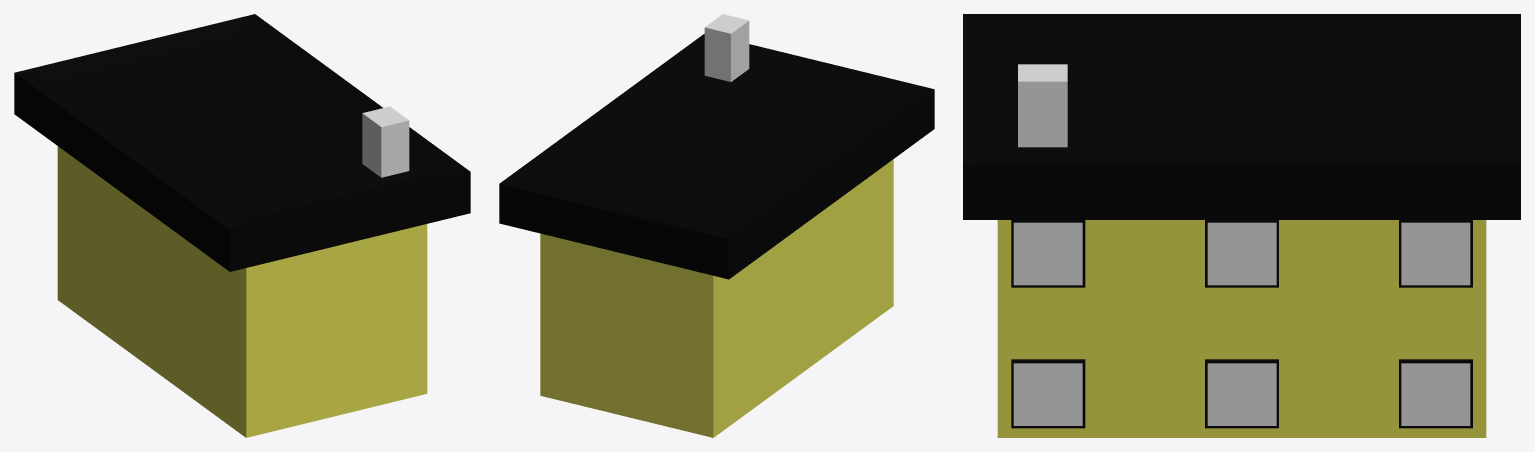
Rendered from edificio1.fbx.
3 renders of one model, left to right at view 1: azimuth 30°, elevation 25°; view 2: azimuth 150°, elevation 25°; view 3: azimuth 270°, elevation 25°, orthographic. The views are drawn at different scales.
Visible parts, largest first — view 1: Cube.007, Cube.009; view 2: Cube.007, Cube.009; view 3: Cube.007, Cube.008, Cube.009.
Part boxes in pixels (x1,y1,x2,y2): Cube.007: [14, 14, 470, 437]; Cube.009: [362, 106, 409, 177]; Cube.007: [499, 34, 934, 437]; Cube.009: [704, 14, 749, 81]; Cube.007: [963, 14, 1520, 437]; Cube.008: [1011, 220, 1472, 428]; Cube.009: [1018, 64, 1067, 147].
Size of the model in its own units: 229 by 246 by 356.
